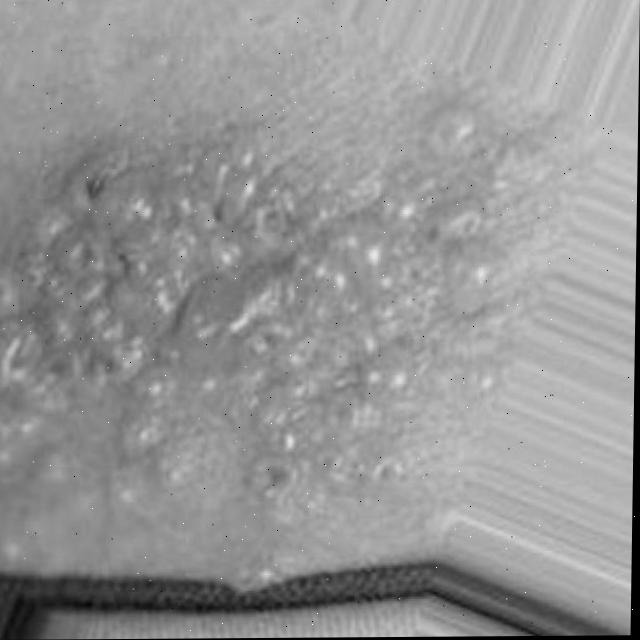Shingles: (0, 114, 489, 528)
